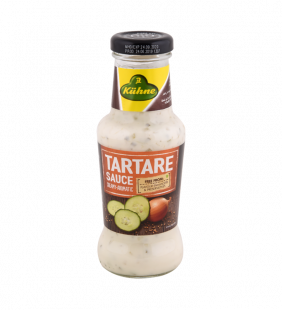KÜHNE: (96, 30, 186, 279)
